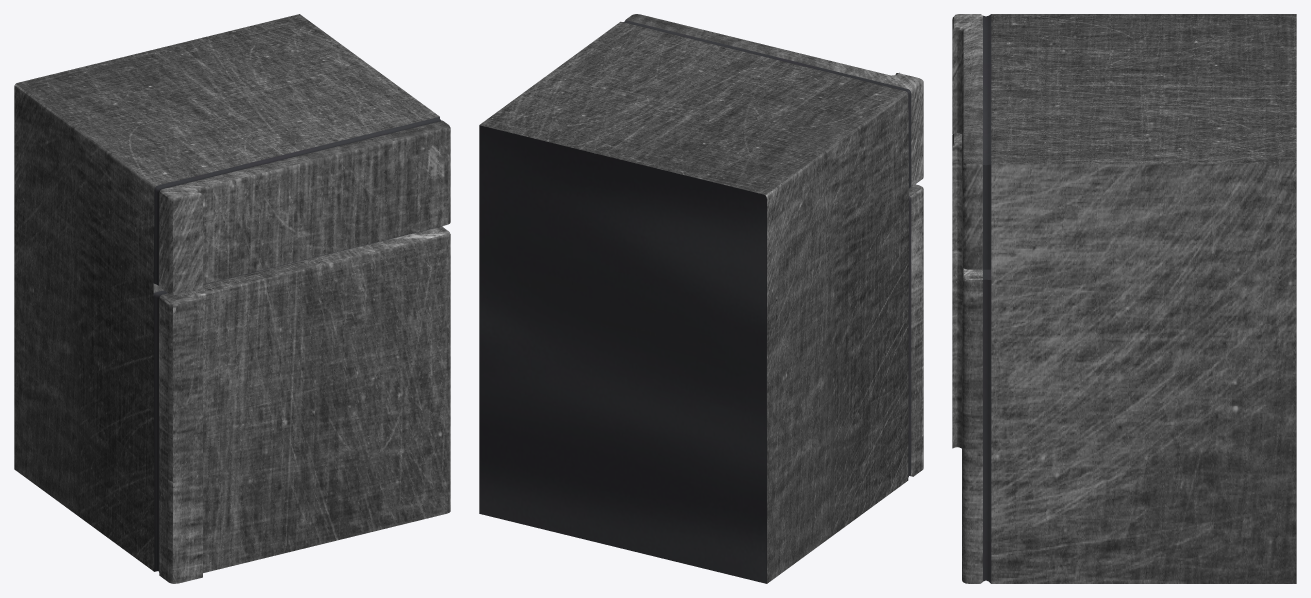
The model's file is Külmkapp.fbx.
3 views of the same model, side by side, from view 1: azimuth 30°, elevation 25°; view 2: azimuth 150°, elevation 25°; view 3: azimuth 270°, elevation 25° (orthographic). The views are drawn at different scales.
Visible parts, largest first — view 1: külmkapp; view 2: külmkapp; view 3: külmkapp.
Boxes of the visible parts, box(x1,y1,x2,y2) form: külmkapp: box(14, 14, 450, 583); külmkapp: box(479, 14, 923, 583); külmkapp: box(952, 14, 1296, 583).
Bounding box in the file's own units: 736 × 948 × 705.
